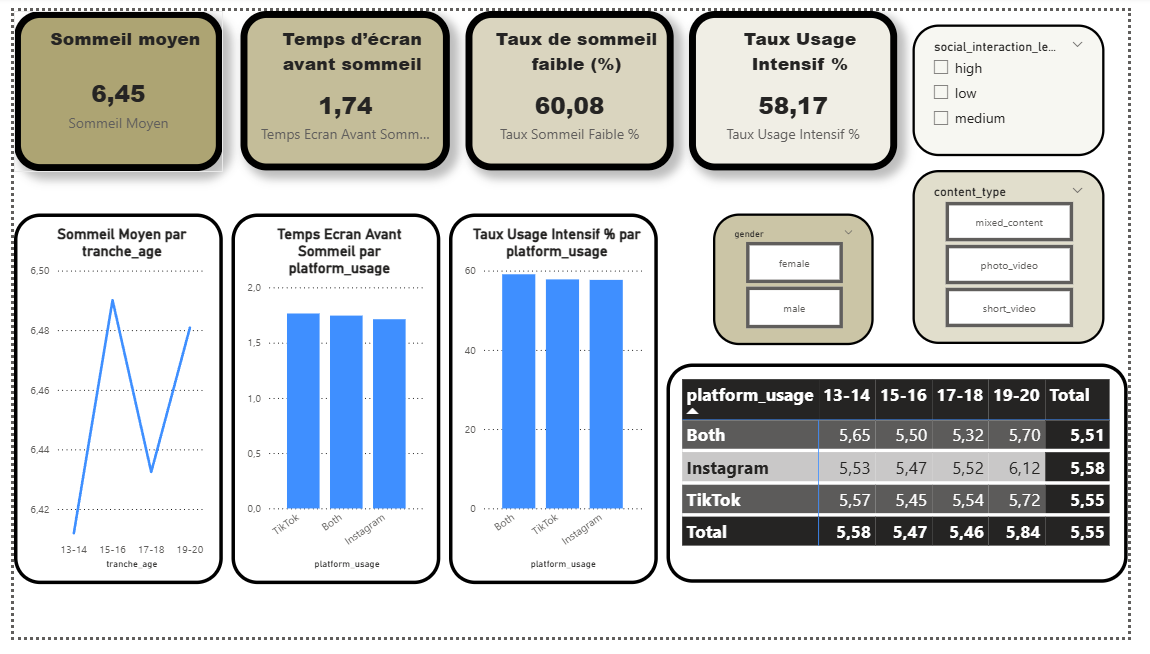

This screenshot's page, from the dashboard's own definition file:
{"tool":"powerbi","page":{"name":"Sommeil, écran et profil de risque","canvas":[1280,720],"ordinal":4},"visuals":[{"type":"card","title":"Sommeil moyen","fields":{"Values":["public fait_sante_mentale.Sommeil Moyen"]},"box":[0,0,240,184],"z":0},{"type":"card","title":"Temps d’écran avant sommeil","fields":{"Values":["public fait_sante_mentale.Temps Ecran Avant Sommeil"]},"box":[259.6,0,241,183.3],"z":1000},{"type":"card","title":"Taux de sommeil faible (%)","fields":{"Values":["public fait_sante_mentale.Taux Sommeil Faible %"]},"box":[519.2,0,239.3,183.3],"z":2000},{"type":"card","title":"Taux Usage Intensif %","fields":{"Values":["public fait_sante_mentale.Taux Usage Intensif %"]},"box":[775.5,0,239.3,183.3],"z":3000},{"type":"lineChart","fields":{"Category":["public dim_age.tranche_age"],"Y":["public fait_sante_mentale.Sommeil Moyen"]},"box":[0,232,240,426],"z":4000},{"type":"lineClusteredColumnComboChart","fields":{"Category":["public dim_platform.platform_usage"],"Y":["public fait_sante_mentale.Temps Ecran Avant Sommeil"]},"box":[250,232,240,426],"z":5000},{"type":"lineStackedColumnComboChart","fields":{"Category":["public dim_platform.platform_usage"],"Y":["public fait_sante_mentale.Taux Usage Intensif %"]},"box":[500,232,240,426],"z":6000},{"type":"pivotTable","fields":{"Rows":["public dim_platform.platform_usage"],"Columns":["public dim_age.tranche_age"],"Values":["public fait_sante_mentale.Score Risque Mental"]},"box":[750,406,530,252],"z":7000},{"type":"slicer","fields":{"Values":["public dim_gender.gender"]},"box":[802.6,232.5,185,151],"z":8000},{"type":"slicer","fields":{"Values":["public dim_social_interaction.social_interaction_level"]},"box":[1033.4,15.3,220.6,151],"z":9000},{"type":"slicer","fields":{"Values":["public dim_platform.content_type"]},"box":[1033.4,183.3,220.6,200.2],"z":10000}]}

Visuals, with their boxes in screenshot pixels (x1, y1, x2, y2), scaled from the page's 1280x720 canvas onto the 1150x654 screenshot:
"Sommeil moyen" card: (left=0, top=0, right=216, bottom=167)
"Temps d’écran avant sommeil" card: (left=233, top=0, right=450, bottom=166)
"Taux de sommeil faible (%)" card: (left=466, top=0, right=681, bottom=166)
"Taux Usage Intensif %" card: (left=697, top=0, right=912, bottom=166)
lineChart - public dim_age.tranche_age x public fait_sante_mentale.Sommeil Moyen: (left=0, top=211, right=216, bottom=598)
lineClusteredColumnComboChart - public dim_platform.platform_usage x public fait_sante_mentale.Temps Ecran Avant Sommeil: (left=225, top=211, right=440, bottom=598)
lineStackedColumnComboChart - public dim_platform.platform_usage x public fait_sante_mentale.Taux Usage Intensif %: (left=449, top=211, right=665, bottom=598)
pivotTable - public dim_platform.platform_usage x public dim_age.tranche_age: (left=674, top=369, right=1149, bottom=598)
slicer - public dim_gender.gender: (left=721, top=211, right=887, bottom=348)
slicer - public dim_social_interaction.social_interaction_level: (left=928, top=14, right=1127, bottom=151)
slicer - public dim_platform.content_type: (left=928, top=166, right=1127, bottom=348)
